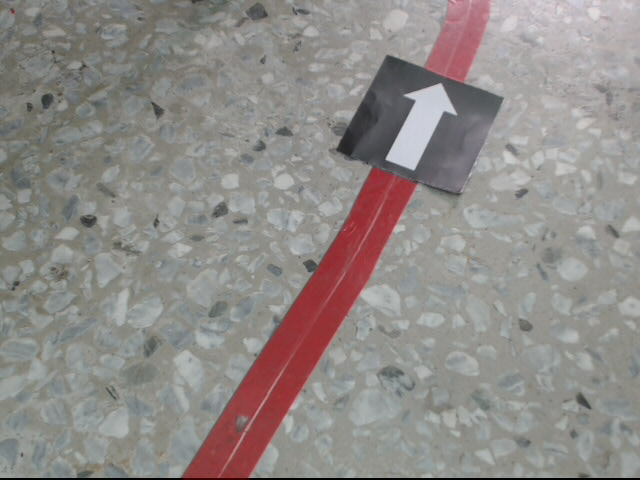straight: (337, 51, 505, 197)
